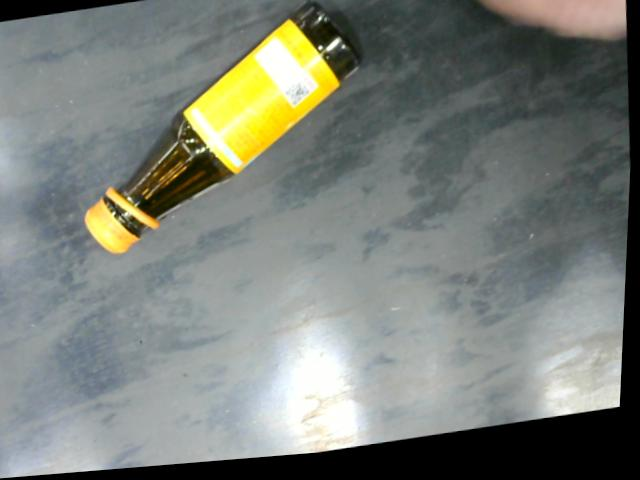glass: (73, 0, 380, 262)
